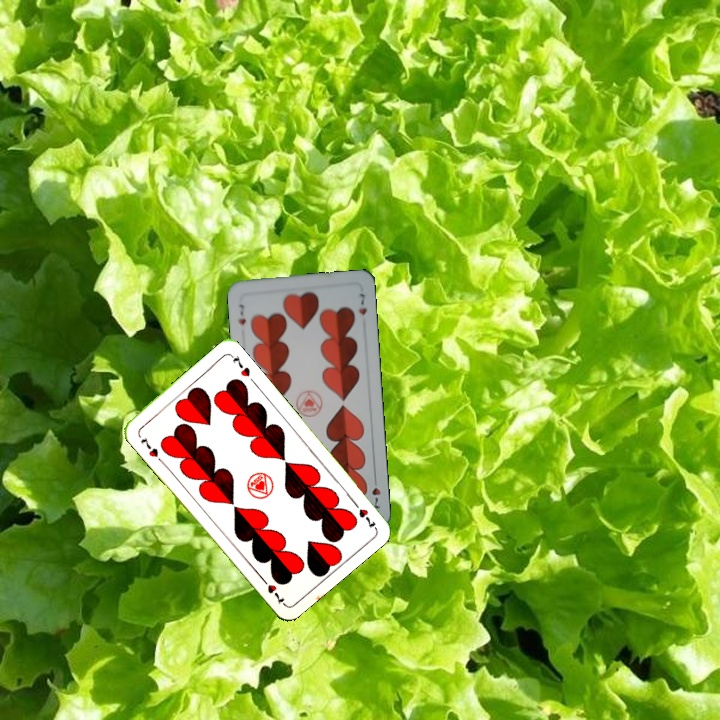H7: (349, 496, 378, 531), (137, 432, 161, 460), (368, 473, 383, 512), (234, 300, 248, 327)
